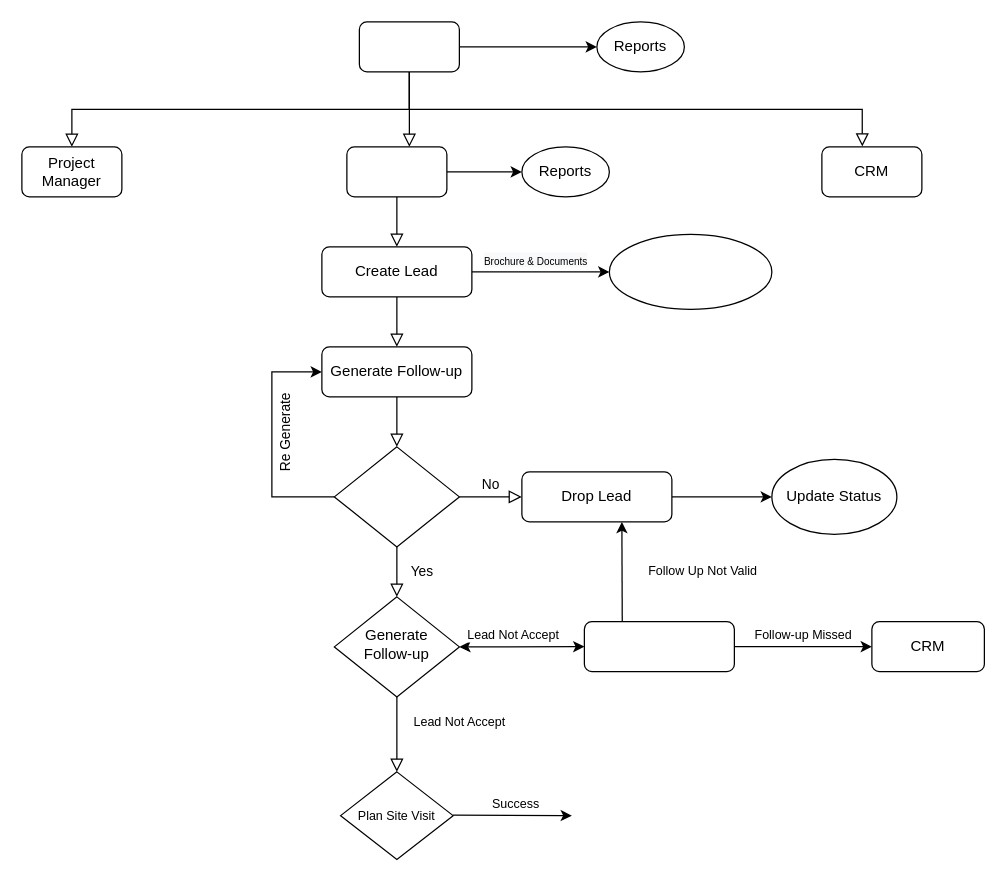
Some shapes in this 1006 by 881 pixel diagram are drawn without their labels. The centre of each missing label's shape, as x and y in pixels:
Admin: point (408, 46)
Generate New Follow-up: point (658, 646)
Sales Executive: point (396, 171)
Send Documents by Mail or WhatsApp: point (690, 271)
Valid Lead: point (396, 496)
